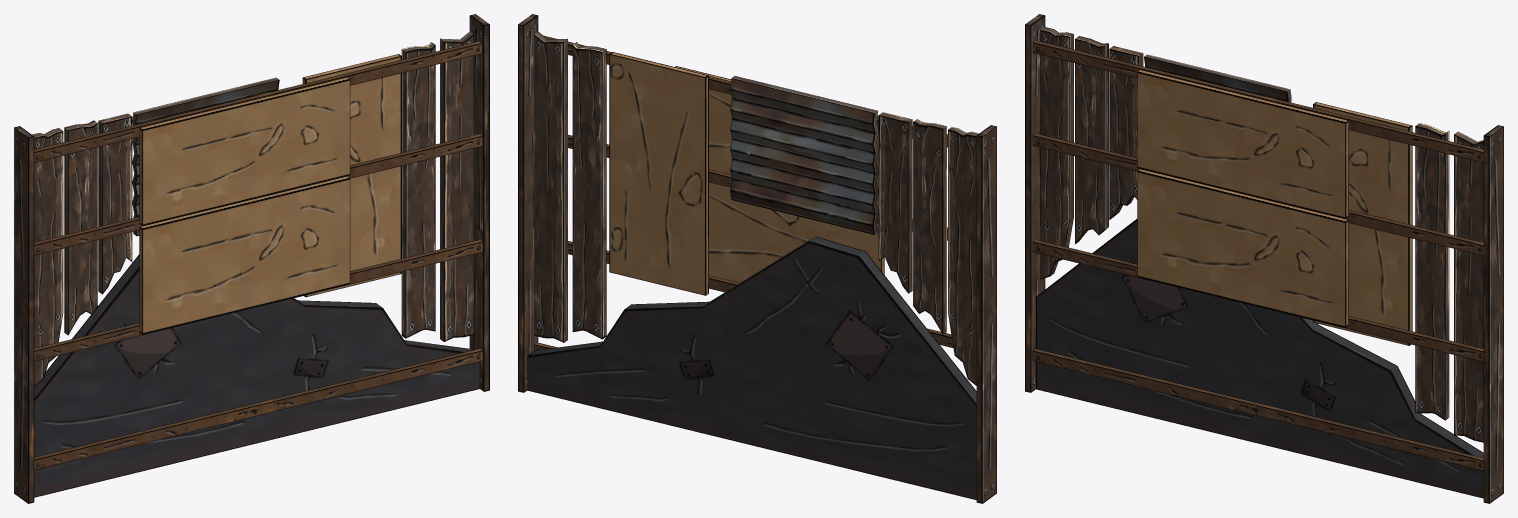
The model's file is wall_04.fbx.
The picture shows the model from 3 angles, left to right: view 1: azimuth 30°, elevation 25°; view 2: azimuth 150°, elevation 25°; view 3: azimuth 330°, elevation 25°; orthographic projection.
Visible parts, largest first — view 1: Junk_Wall_04; view 2: Junk_Wall_04; view 3: Junk_Wall_04.
Part boxes in pixels (<box>): Junk_Wall_04: <box>14,14,489,503</box>; Junk_Wall_04: <box>518,14,996,503</box>; Junk_Wall_04: <box>1025,14,1503,503</box>.
Bounding box in the file's own units: 489 × 370 × 29.81.
Materials: 1 (1 with a texture image).
